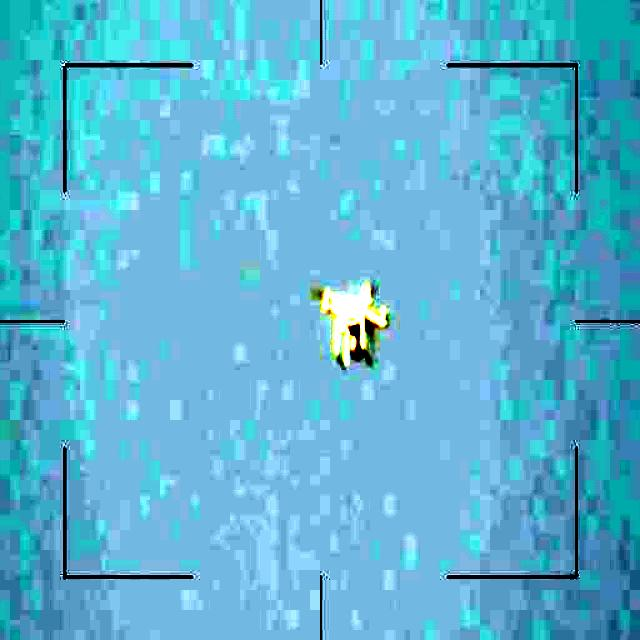bird: (311, 274, 398, 365)
